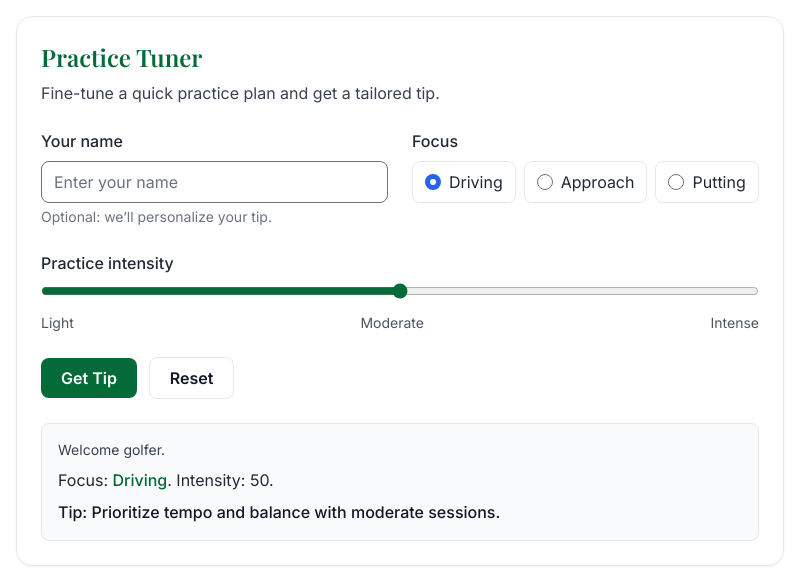
Test: EngagementWidget › renders and updates feedback in real-time
Expected: the text "Welcome golfer." is shown, [58,441,165,458]
Type "Sam" into the field labelled "Your name" at (214, 182), box [41,161,388,203]
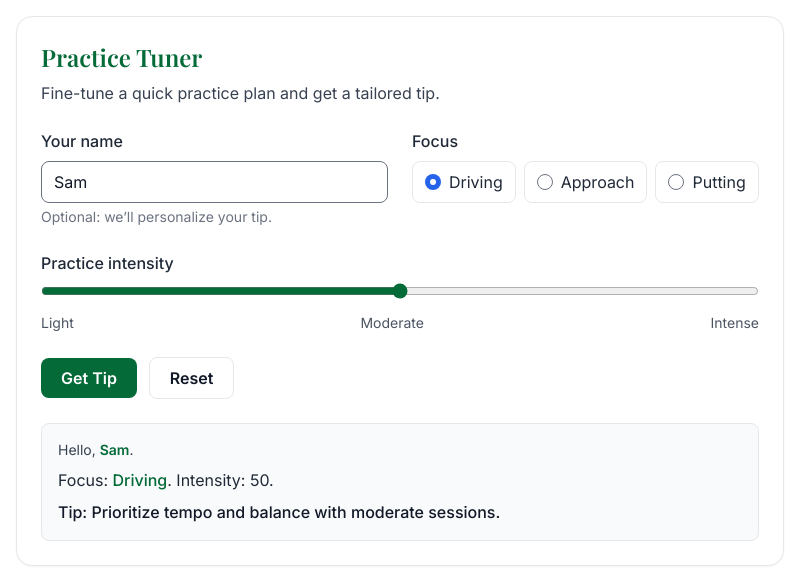
Expected: the text "Hello, Sam." is shown, [58,441,134,458]
Set the slider named "Practice intensity slider" to "80" at (611, 291), box [41,283,759,299]
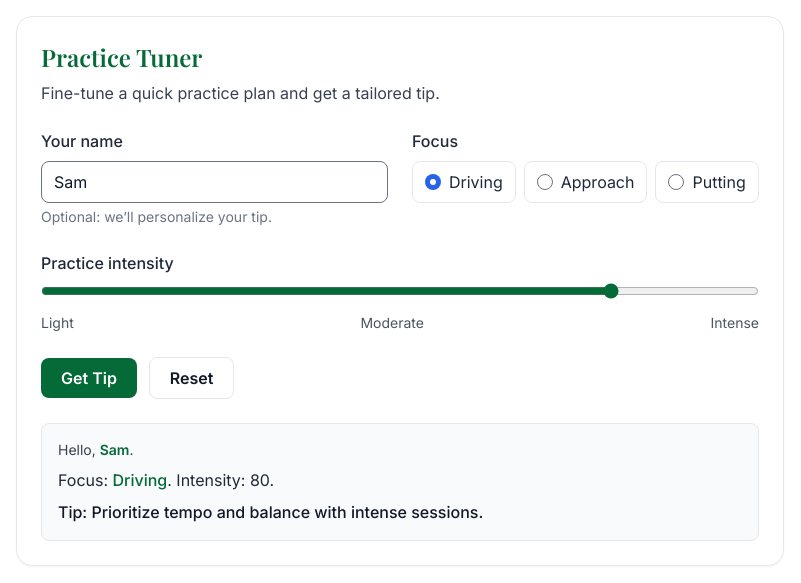
Expected: the text "Focus: Driving. Intensity: 80." is shown, [58,470,274,490]
Click the radio button labelled "Putting" at (676, 182), box [668,174,684,190]
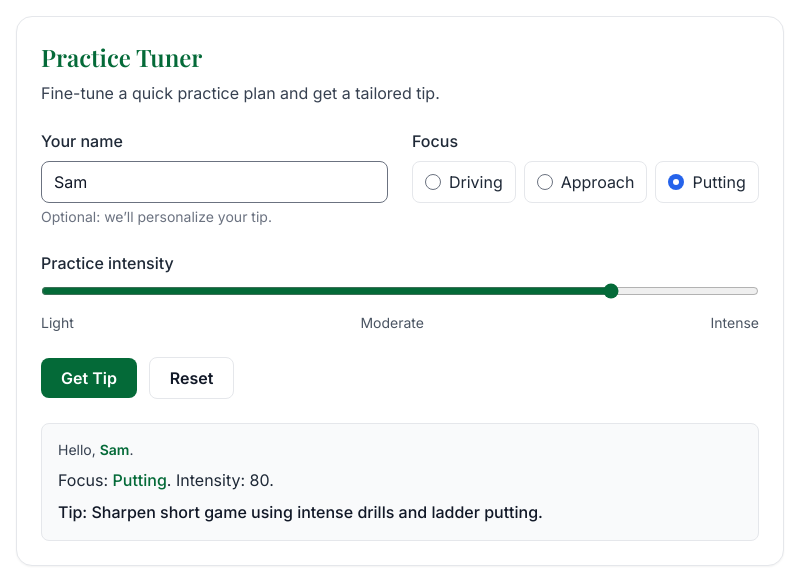
Expected: the text "Focus: Putting. Intensity: 80." is shown, [58,470,274,490]
